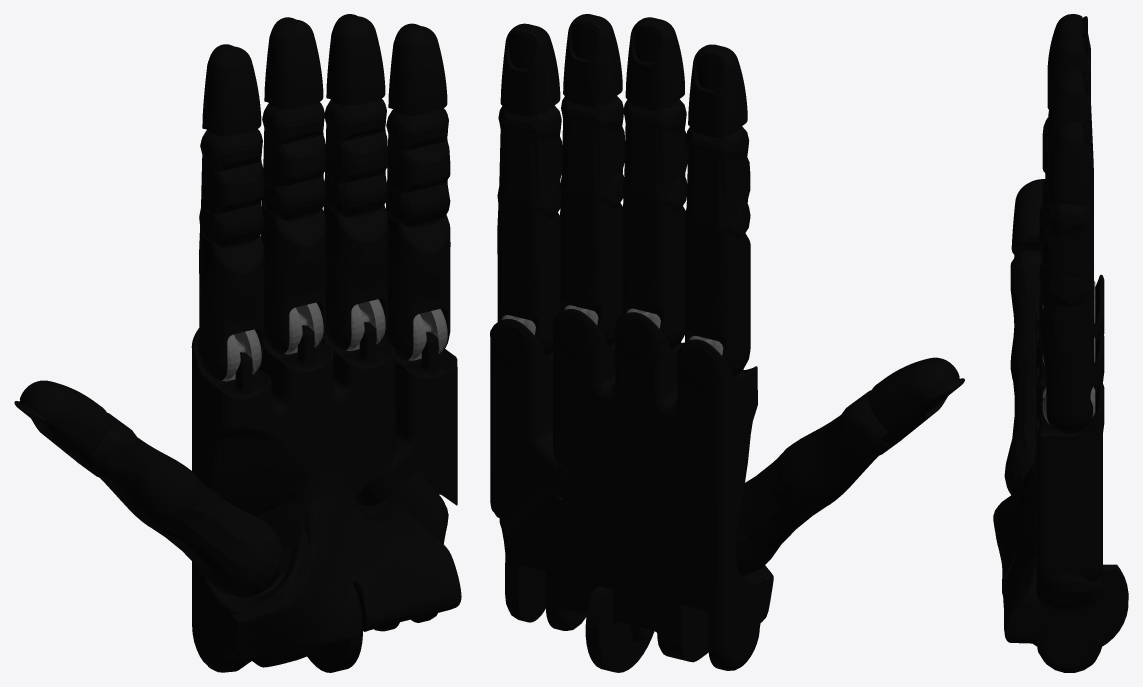
Rendered from shadow_hand_left_original.glb.
The picture shows the model from 3 angles, left to right: view 1: azimuth 30°, elevation 25°; view 2: azimuth 150°, elevation 25°; view 3: azimuth 270°, elevation 25°; orthographic projection. The views are drawn at different scales.
Parts seen in each view (by area): view 1: world; view 2: world; view 3: world.
Boxes of the visible parts, x1,y1,x2,y2 form: world: [14, 14, 461, 672]; world: [490, 14, 964, 672]; world: [993, 14, 1128, 672].
Size of the model in its own units: 0.1564 by 0.2205 by 0.0447.
Materials: 1 (1 with a texture image).
